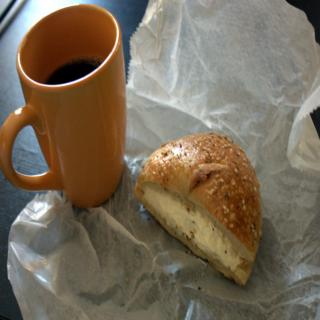Bread: (133, 131, 260, 287)
